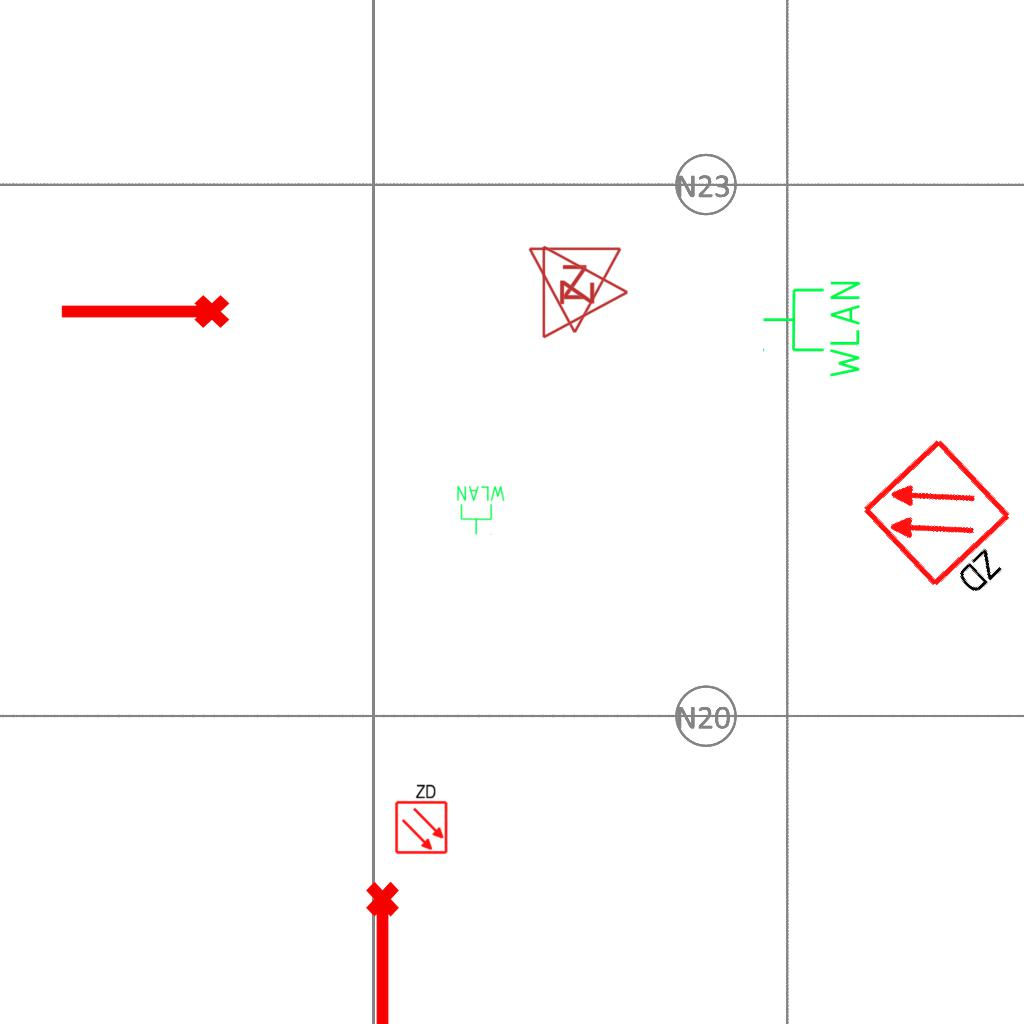ASR_Ansaugoeffnung: (56, 291, 232, 337), (362, 879, 408, 1024)
WLAN: (760, 277, 864, 382), (455, 484, 507, 536)
ZD_Melder_in_Zwischendecke_mit_Revisionsoeffnung_mind_40_x_40_cm: (858, 432, 1024, 619), (392, 781, 449, 855)
Zimmersignalleuchte: (527, 240, 625, 340), (535, 242, 635, 340)
